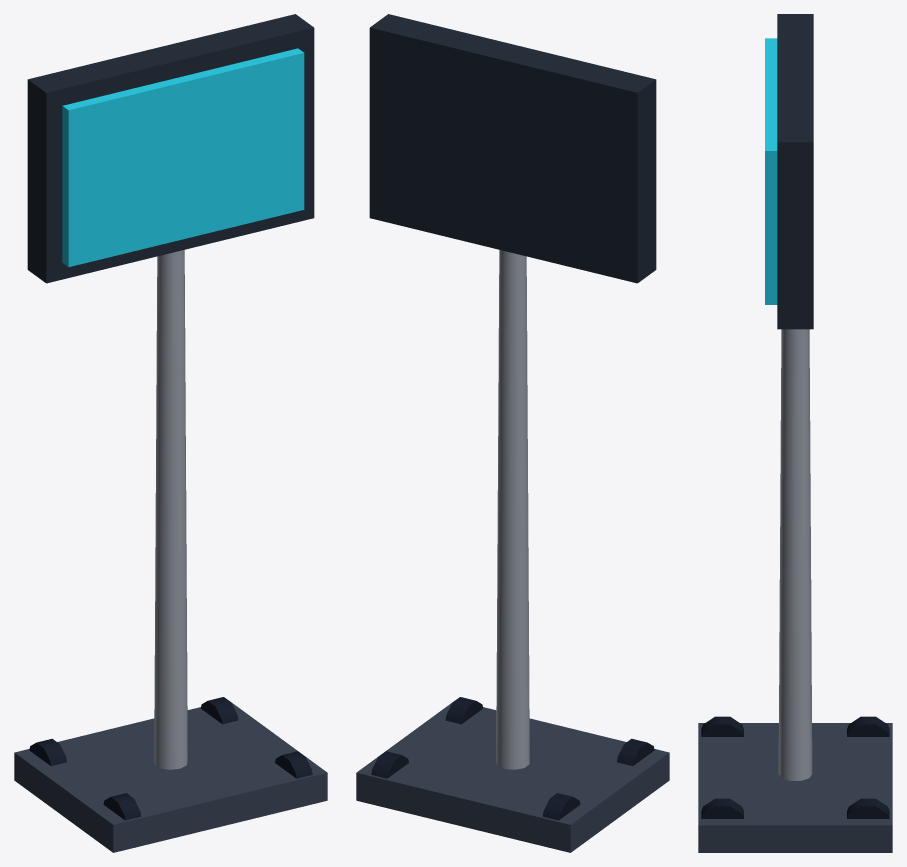
Rendered from parametric-source.glb.
3 renders of one model, left to right at view 1: azimuth 30°, elevation 25°; view 2: azimuth 150°, elevation 25°; view 3: azimuth 270°, elevation 25°, orthographic.
Visible parts, largest first — view 1: openclinxr.equipment.lab_results_panel_equipment.display, openclinxr.equipment.lab_results_panel_equipment.cart_base, openclinxr.equipment.lab_results_panel_equipment.bezel, openclinxr.equipment.lab_results_panel_equipment.cart_pole, openclinxr.equipment.lab_results_panel_equipment.caster_1, openclinxr.equipment.lab_results_panel_equipment.caster_3, openclinxr.equipment.lab_results_panel_equipment.caster_0, openclinxr.equipment.lab_results_panel_equipment.caster_2; view 2: openclinxr.equipment.lab_results_panel_equipment.bezel, openclinxr.equipment.lab_results_panel_equipment.cart_base, openclinxr.equipment.lab_results_panel_equipment.cart_pole, openclinxr.equipment.lab_results_panel_equipment.caster_3, openclinxr.equipment.lab_results_panel_equipment.caster_1, openclinxr.equipment.lab_results_panel_equipment.caster_0, openclinxr.equipment.lab_results_panel_equipment.caster_2; view 3: openclinxr.equipment.lab_results_panel_equipment.cart_base, openclinxr.equipment.lab_results_panel_equipment.cart_pole, openclinxr.equipment.lab_results_panel_equipment.bezel, openclinxr.equipment.lab_results_panel_equipment.display, openclinxr.equipment.lab_results_panel_equipment.caster_0, openclinxr.equipment.lab_results_panel_equipment.caster_2, openclinxr.equipment.lab_results_panel_equipment.caster_1, openclinxr.equipment.lab_results_panel_equipment.caster_3.
Boxes of the visible parts, x1,y1,x2,y2 form: openclinxr.equipment.lab_results_panel_equipment.display: (62,48,304,267); openclinxr.equipment.lab_results_panel_equipment.cart_base: (14,702,327,852); openclinxr.equipment.lab_results_panel_equipment.bezel: (27,14,314,283); openclinxr.equipment.lab_results_panel_equipment.cart_pole: (154,250,187,769); openclinxr.equipment.lab_results_panel_equipment.caster_1: (200,697,238,724); openclinxr.equipment.lab_results_panel_equipment.caster_3: (275,751,312,778); openclinxr.equipment.lab_results_panel_equipment.caster_0: (29,738,66,765); openclinxr.equipment.lab_results_panel_equipment.caster_2: (103,793,141,820); openclinxr.equipment.lab_results_panel_equipment.bezel: (369,14,656,283); openclinxr.equipment.lab_results_panel_equipment.cart_base: (356,702,669,852); openclinxr.equipment.lab_results_panel_equipment.cart_pole: (496,250,529,769); openclinxr.equipment.lab_results_panel_equipment.caster_3: (445,697,483,724); openclinxr.equipment.lab_results_panel_equipment.caster_1: (371,751,408,778); openclinxr.equipment.lab_results_panel_equipment.caster_0: (542,793,580,820); openclinxr.equipment.lab_results_panel_equipment.caster_2: (617,738,654,765); openclinxr.equipment.lab_results_panel_equipment.cart_base: (698,723,892,852); openclinxr.equipment.lab_results_panel_equipment.cart_pole: (778,329,812,780); openclinxr.equipment.lab_results_panel_equipment.bezel: (777,14,813,329); openclinxr.equipment.lab_results_panel_equipment.display: (765,38,777,304); openclinxr.equipment.lab_results_panel_equipment.caster_0: (847,716,889,736); openclinxr.equipment.lab_results_panel_equipment.caster_2: (701,716,743,736); openclinxr.equipment.lab_results_panel_equipment.caster_1: (847,798,889,818); openclinxr.equipment.lab_results_panel_equipment.caster_3: (701,798,743,818).
Size of the model in its own units: 0.5 by 1.32 by 0.32.
